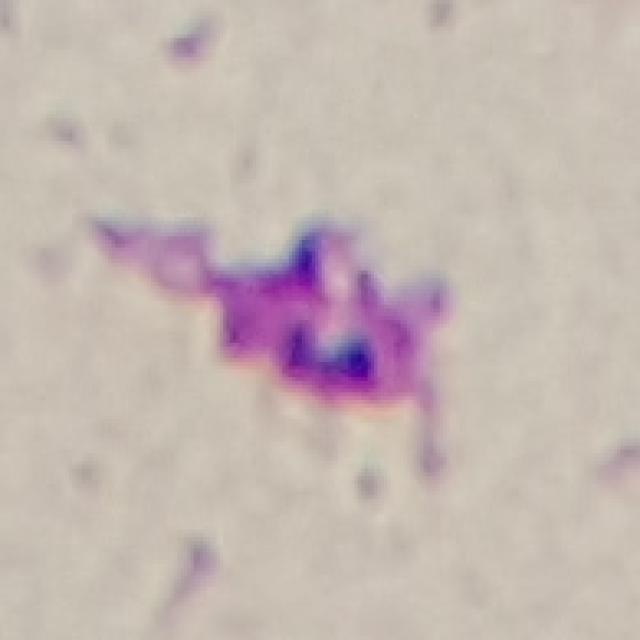non-sperm: (128, 214, 448, 404)
